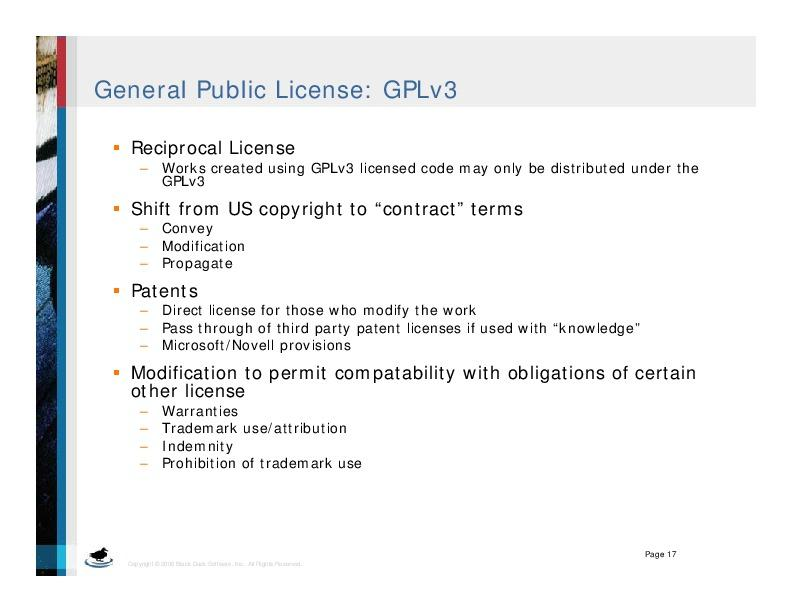paragraph: (109, 126, 748, 493)
title: (88, 65, 472, 107)
